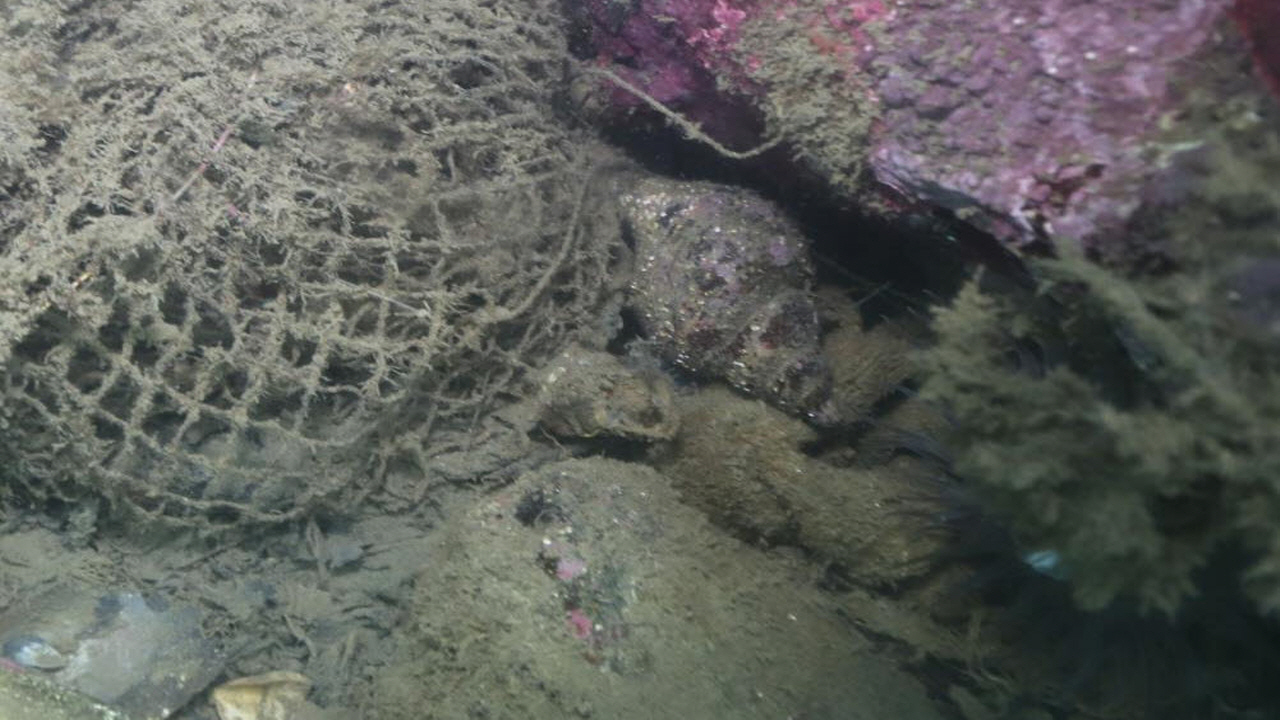fish net: (0, 0, 633, 533)
